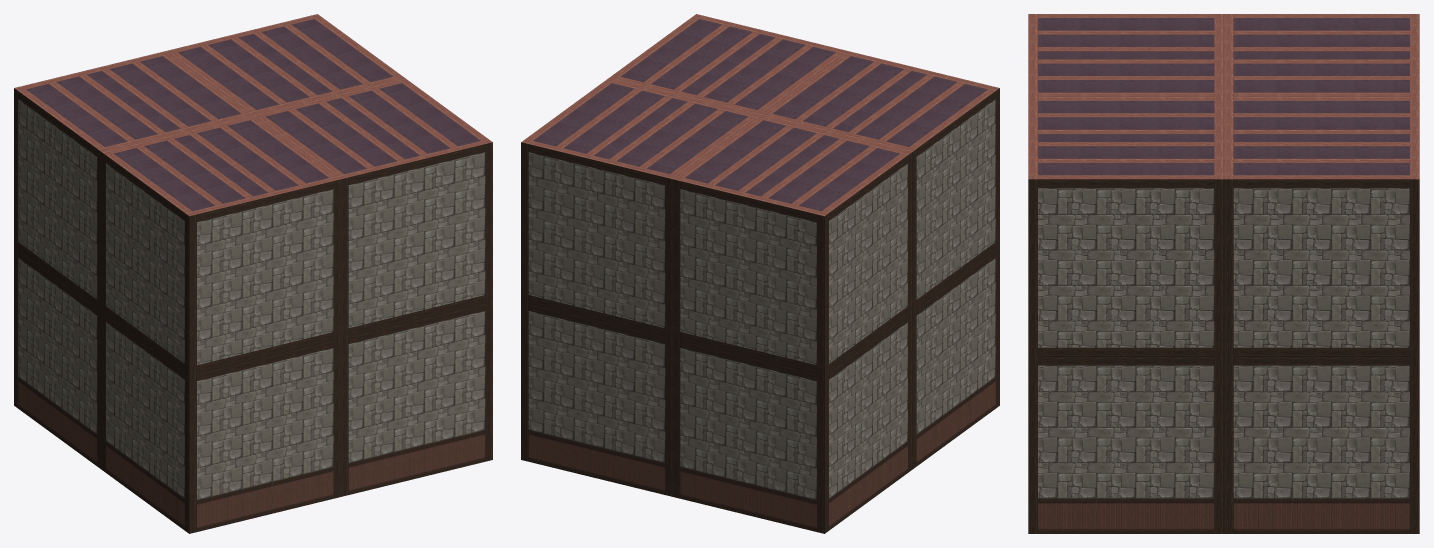
The picture shows the model from 3 angles, left to right: view 1: azimuth 30°, elevation 25°; view 2: azimuth 150°, elevation 25°; view 3: azimuth 270°, elevation 25°; orthographic projection. The views are drawn at different scales.
Visible parts, largest first — view 1: Wall04, Wall03, Roof; view 2: Wall02, Wall03, Roof; view 3: Wall01, Roof.
Part boxes in pixels (left/top/right/bottom): Wall04: left=189, top=142, right=492, bottom=533; Wall03: left=14, top=88, right=189, bottom=533; Roof: left=14, top=14, right=492, bottom=216; Wall02: left=521, top=142, right=824, bottom=533; Wall03: left=824, top=88, right=999, bottom=533; Roof: left=521, top=14, right=999, bottom=216; Wall01: left=1028, top=179, right=1419, bottom=533; Roof: left=1028, top=14, right=1419, bottom=179.
Size of the model in its own units: 100 by 100 by 100.
Materials: 3 (3 with a texture image).
